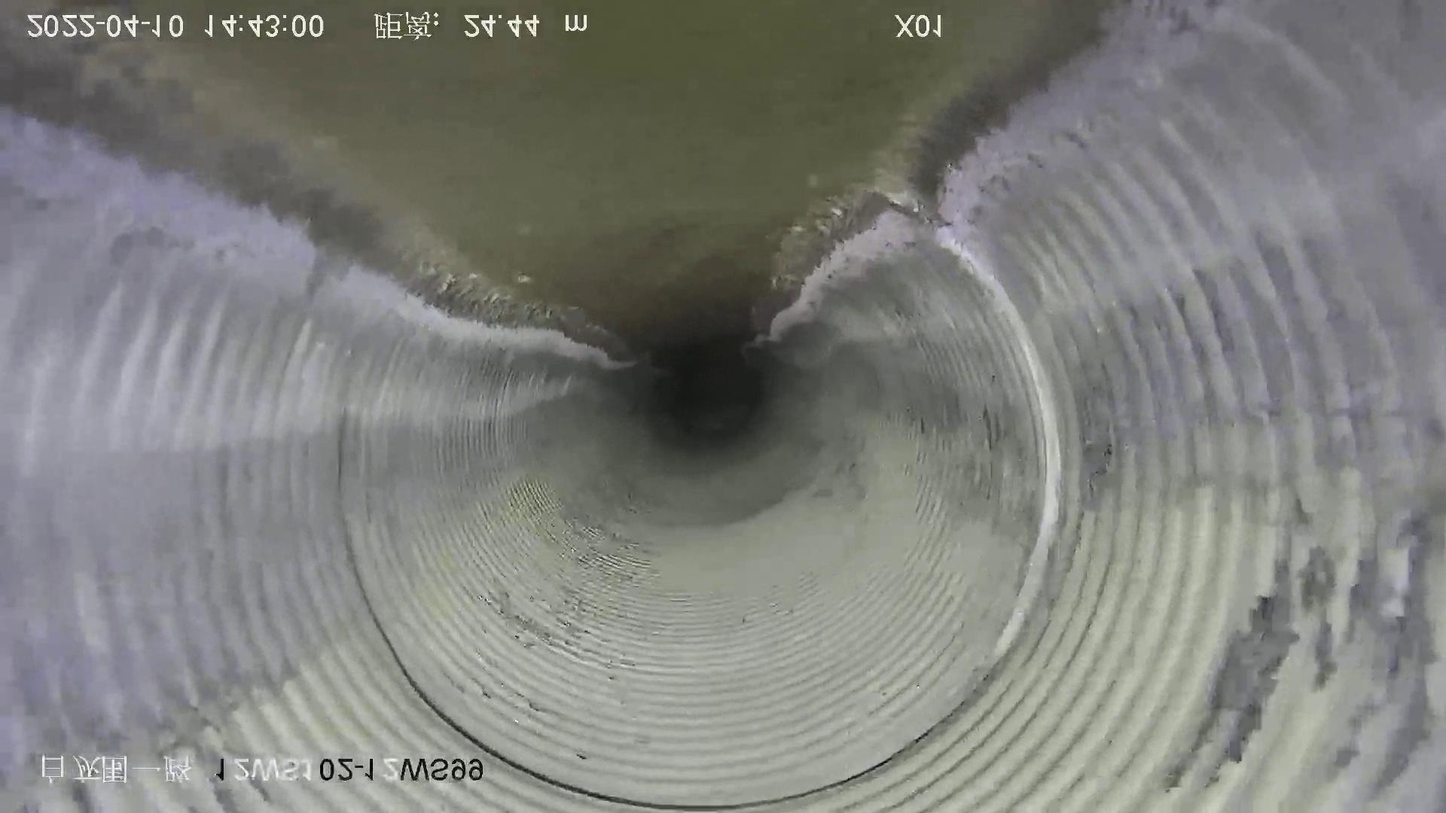CKTJ: (926, 220, 1063, 653)
